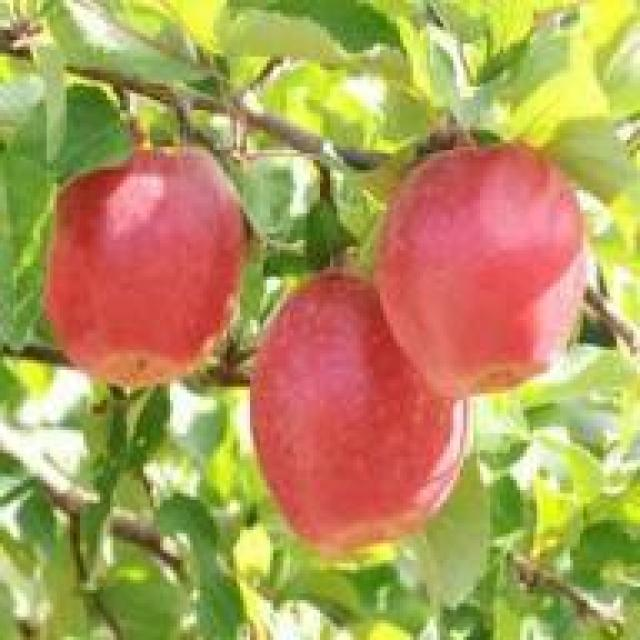apple: (250, 283, 483, 570), (380, 144, 590, 394), (43, 150, 240, 383)
